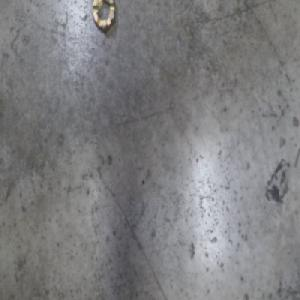Nut: (90, 0, 117, 36)
